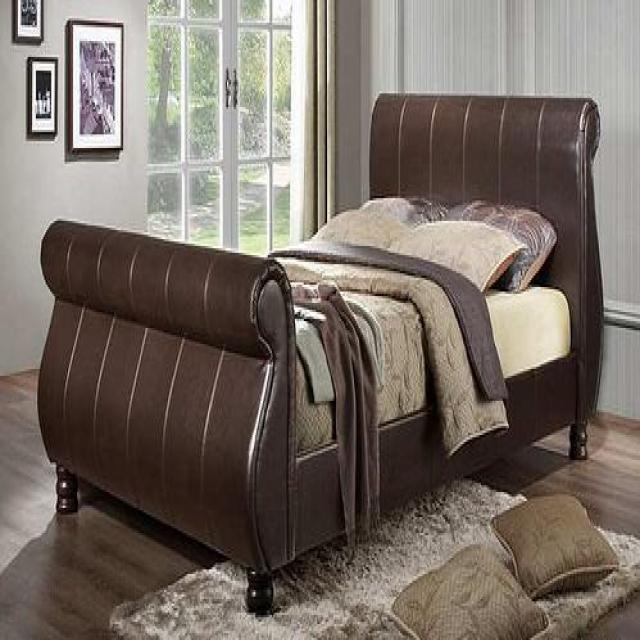bed: (36, 89, 604, 615)
